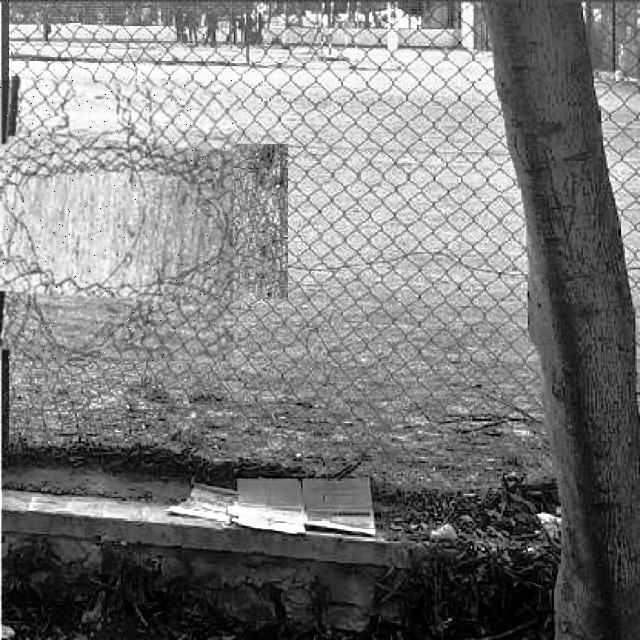anomaly-fence: (0, 80, 233, 361)
